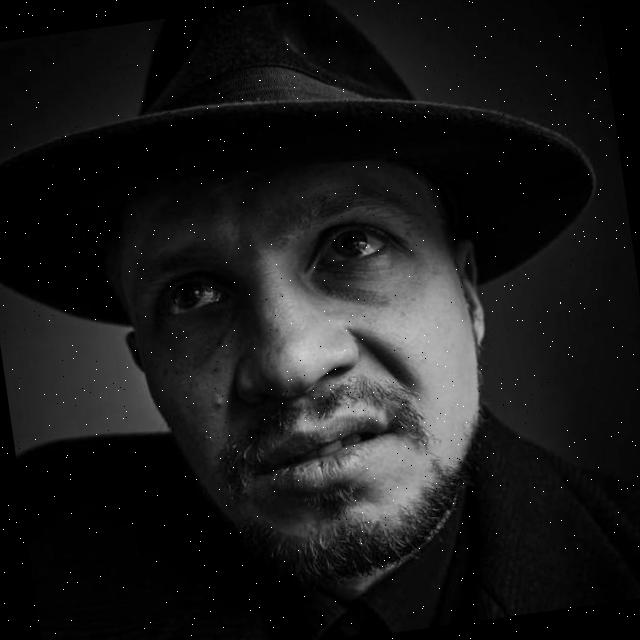Disgust: (104, 136, 506, 605)
